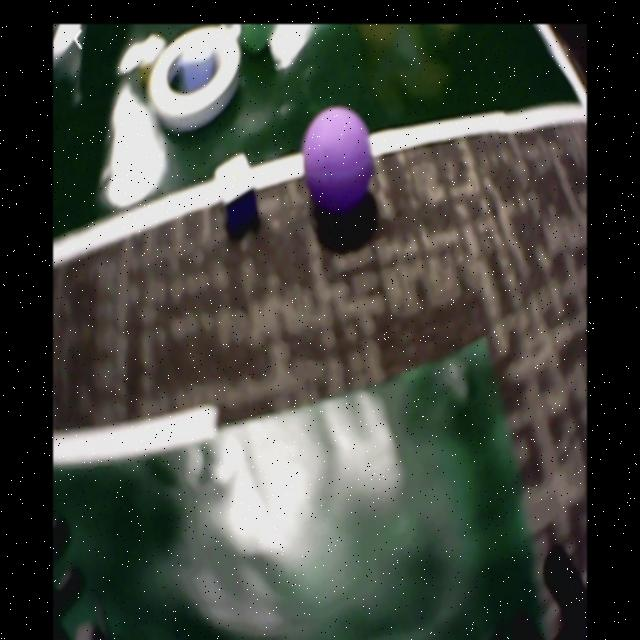ball: (304, 107, 375, 214)
